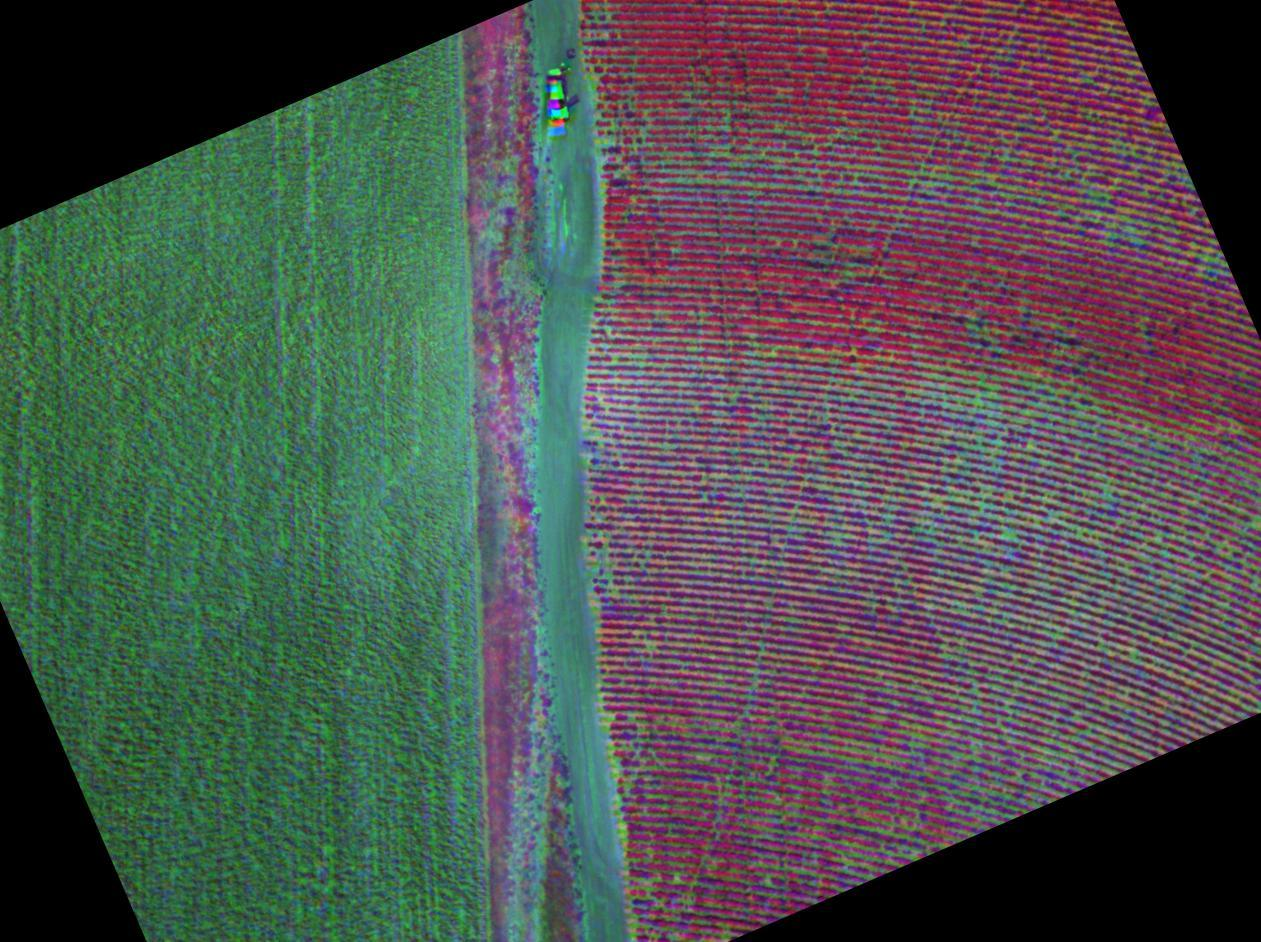dc: (955, 753, 959, 757), (1003, 669, 1007, 672), (647, 641, 650, 644), (630, 718, 633, 721), (813, 836, 816, 839), (842, 841, 845, 844)
